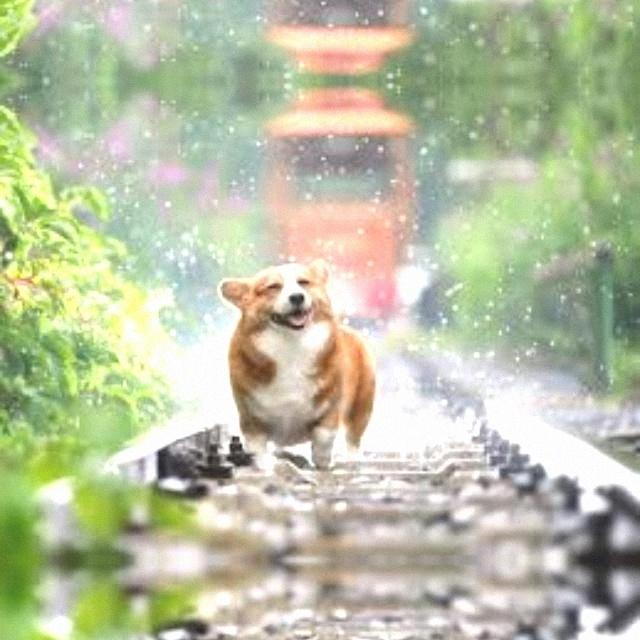dog: (208, 246, 392, 472)
